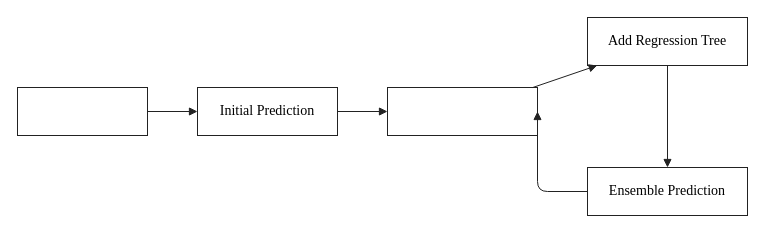
Some shapes in this 765 by 233 pixel diagram are drawn without their labels. Each missing label, with the centre of its shape:
Feature Matrix: point (82, 111)
Gradient / Hessian: point (462, 111)
